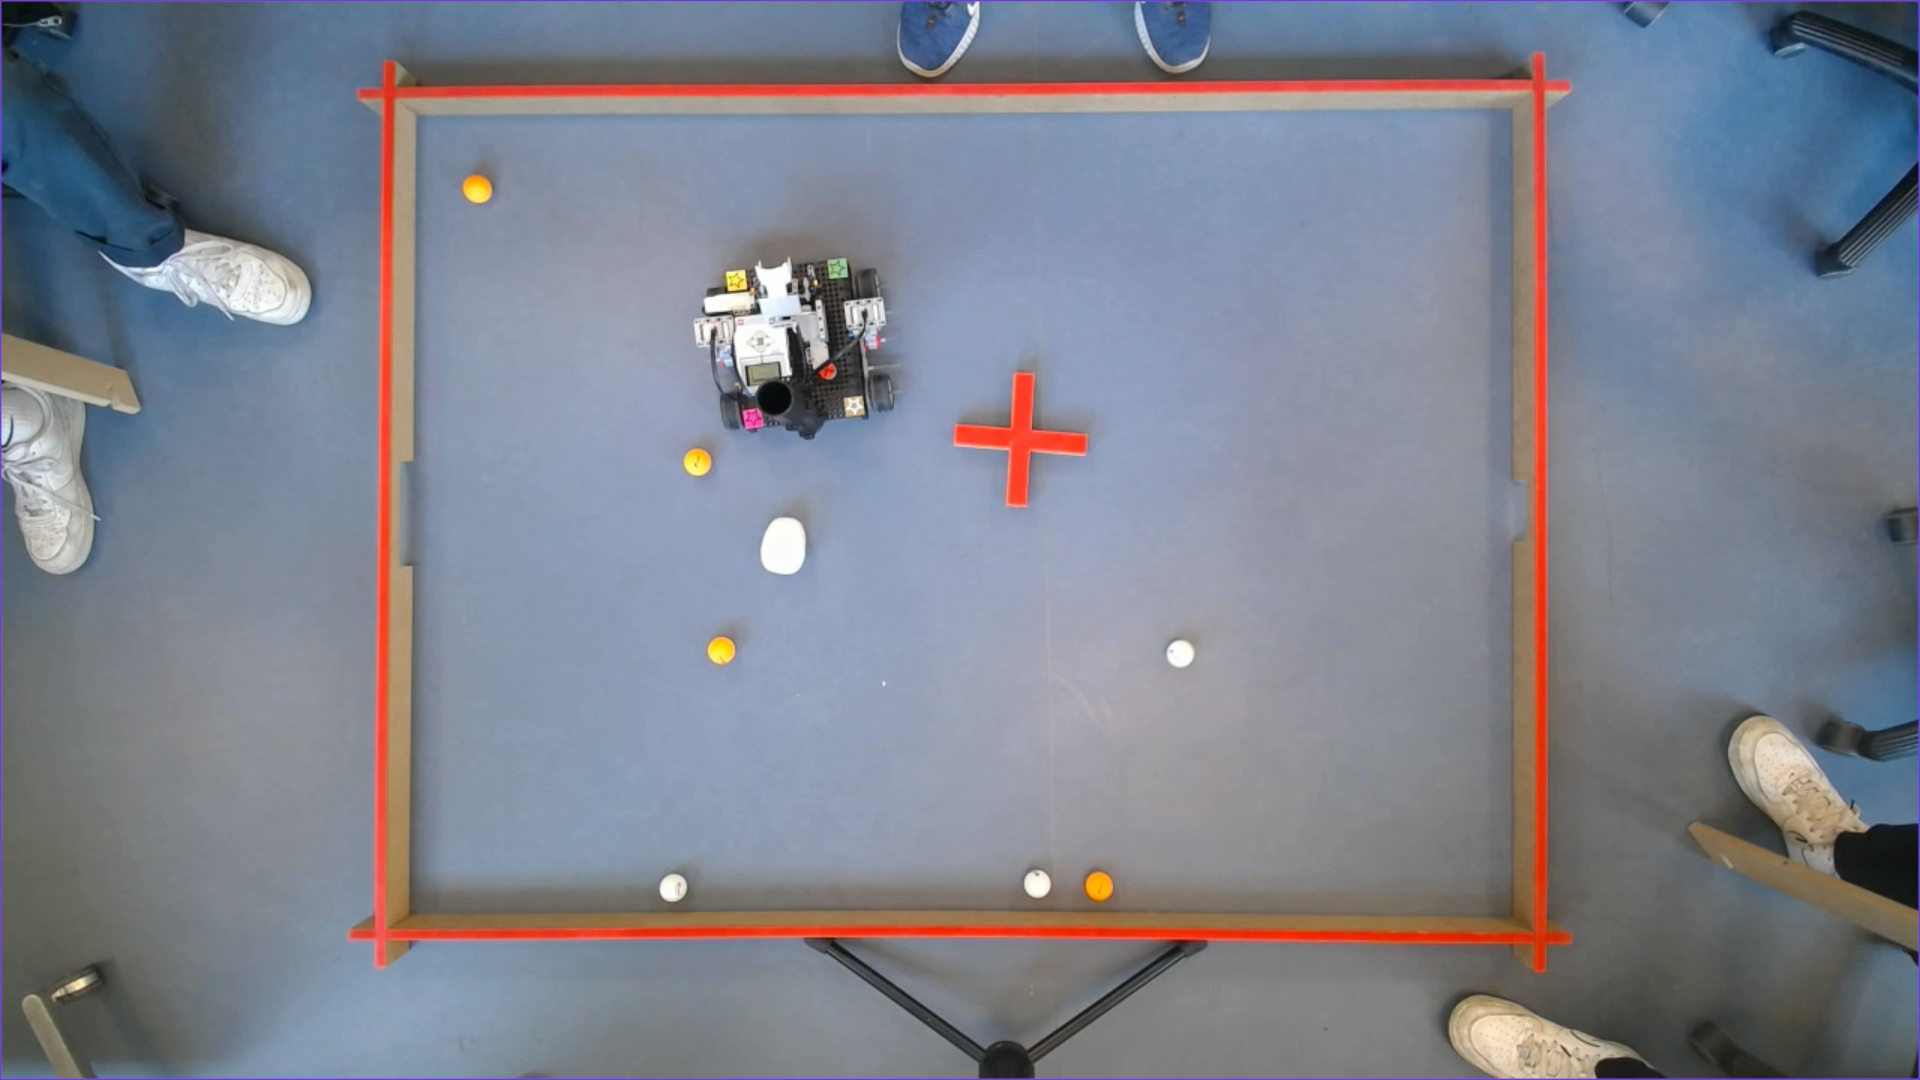ball_orange: (709, 636, 733, 659), (467, 177, 487, 200), (1089, 872, 1108, 895), (687, 451, 709, 469)
ball_white: (659, 872, 684, 895), (1168, 641, 1193, 665), (1025, 870, 1048, 894)
corner_brown: (845, 397, 865, 417)
corner_green: (829, 260, 852, 277)
corner_pink: (742, 409, 762, 429)
corner_yellow: (728, 274, 749, 285)
cross: (945, 369, 1092, 506)
egg: (764, 514, 807, 578)
playfield: (378, 82, 1553, 947)
